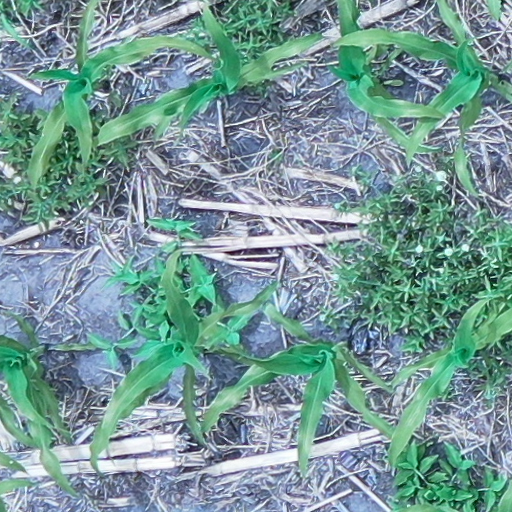planta: (84, 243, 282, 473), (195, 299, 410, 480), (2, 329, 85, 503)
